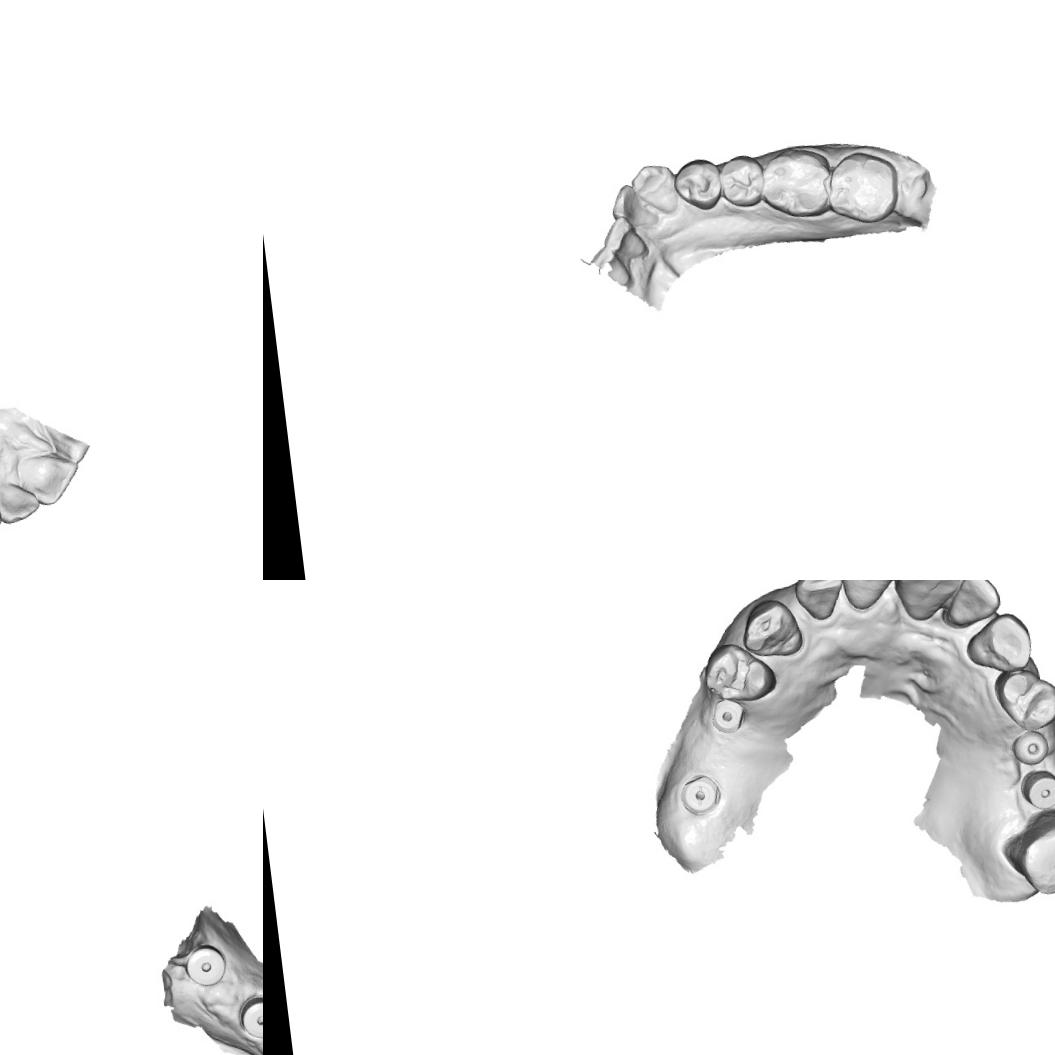canine: (967, 612, 1036, 676), (739, 598, 806, 663), (628, 160, 680, 218)
implant: (180, 940, 229, 990), (1009, 727, 1053, 768), (1018, 764, 1055, 810), (705, 696, 744, 735), (237, 992, 263, 1041)
implant_minus: (678, 769, 724, 817)
incisor: (14, 449, 82, 510), (892, 580, 971, 623), (940, 580, 1001, 629), (608, 180, 661, 232), (834, 580, 905, 613), (792, 580, 847, 622), (602, 213, 648, 262), (0, 479, 43, 526), (590, 244, 632, 288)
molar: (822, 146, 904, 229), (758, 143, 837, 222), (1002, 805, 1055, 899)
premolar: (701, 639, 778, 708), (989, 656, 1055, 732), (670, 154, 726, 214), (718, 151, 768, 210)
